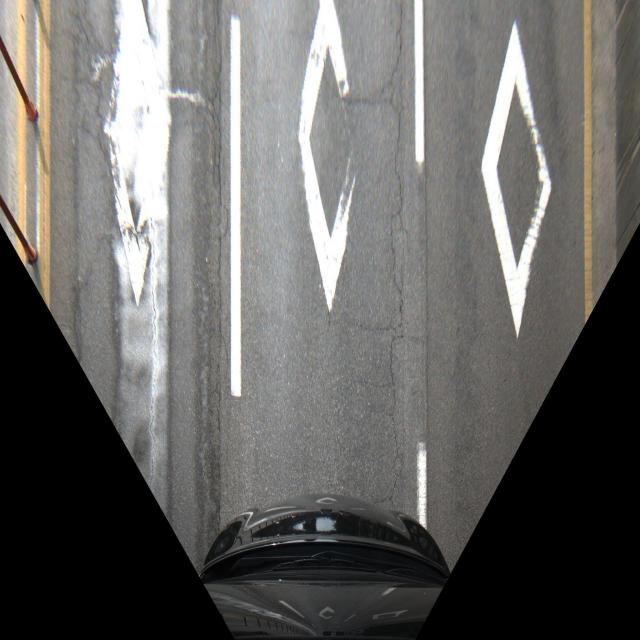diamond: (412, 13, 588, 340)
